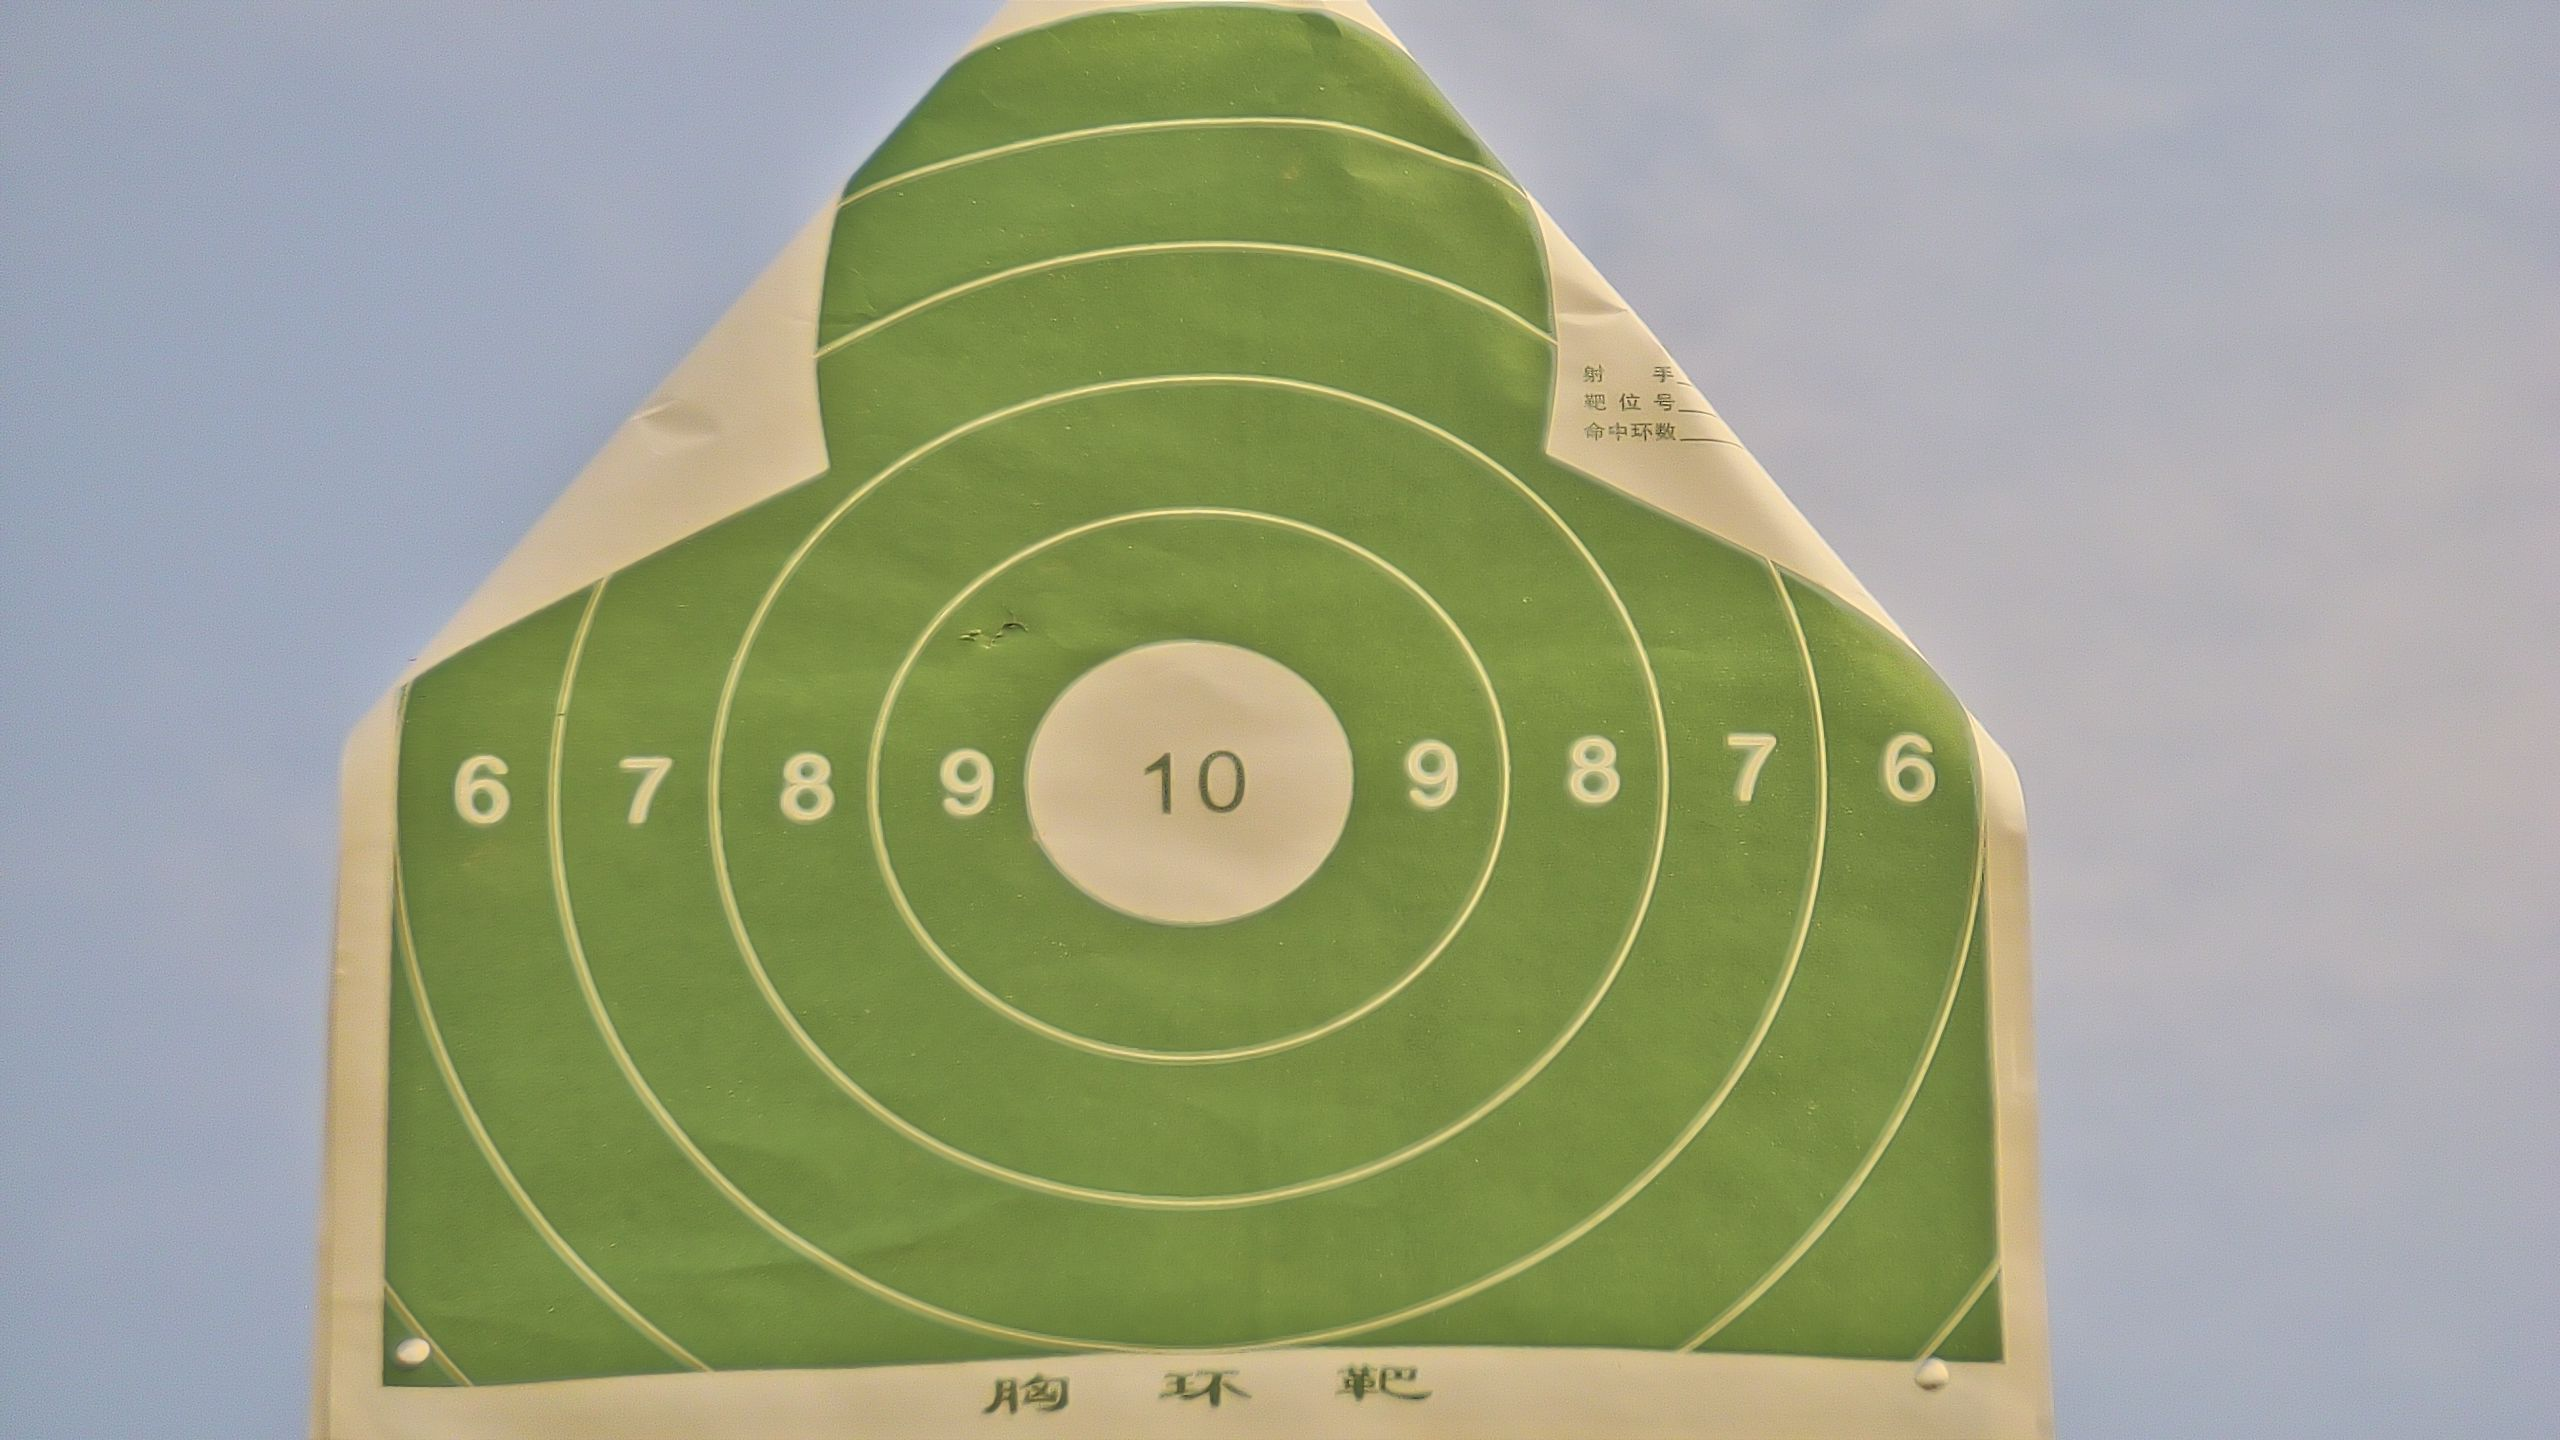kernel: (1183, 782, 1187, 788)
target: (390, 2, 2003, 1387)
ten: (1016, 626, 1359, 928)
